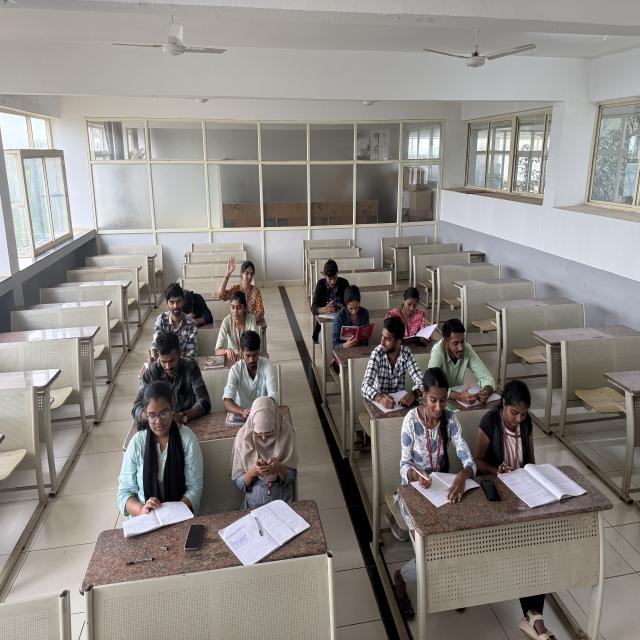Hand Rising: (219, 252, 264, 313)
Reading: (116, 377, 205, 525), (480, 377, 550, 490), (390, 284, 440, 350), (333, 284, 377, 351)
Sleeping: (174, 284, 218, 329)
Using Phone: (125, 326, 212, 426), (230, 393, 301, 502), (306, 257, 354, 321)
Writing: (398, 364, 474, 490), (362, 318, 423, 408)
